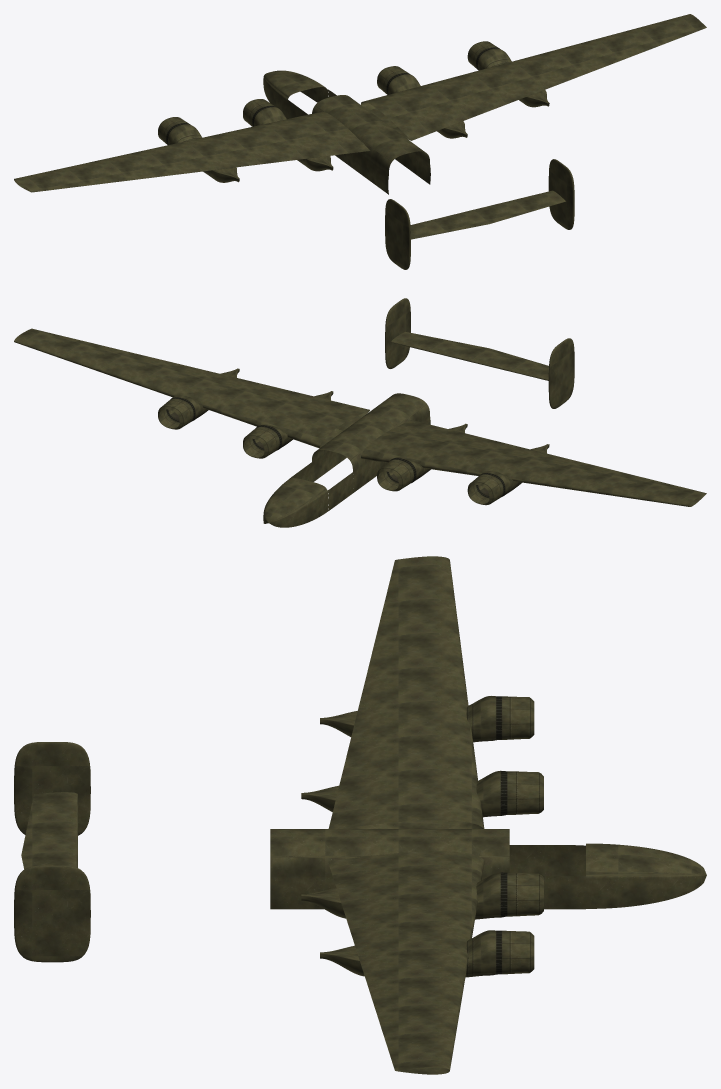
File: b24-exterior.glb
The picture shows the model from 3 angles, top to bottom: view 1: azimuth 30°, elevation 25°; view 2: azimuth 150°, elevation 25°; view 3: azimuth 270°, elevation 25°; orthographic projection. The views are drawn at different scales.
Parts seen in each view (by area): view 1: b24_ext, b24_nacelle, b24_extaft, b24_extnose; view 2: b24_ext, b24_nacelle, b24_extaft, b24_extnose; view 3: b24_ext, b24_nacelle, b24_extaft, b24_extnose.
Boxes of the visible parts, box(x1,y1,x2,y2) form: b24_ext: box(14, 14, 706, 269); b24_nacelle: box(158, 41, 549, 182); b24_extaft: box(312, 95, 430, 194); b24_extnose: box(263, 70, 328, 118); b24_ext: box(14, 298, 706, 510); b24_nacelle: box(158, 368, 549, 505); b24_extaft: box(311, 393, 430, 492); b24_extnose: box(263, 478, 328, 527); b24_ext: box(14, 556, 585, 1074); b24_nacelle: box(301, 696, 543, 977); b24_extaft: box(270, 829, 509, 909); b24_extnose: box(586, 843, 706, 908).
Size of the model in its own units: 33 by 2.9 by 18.92.
2 materials, 2 textured.
